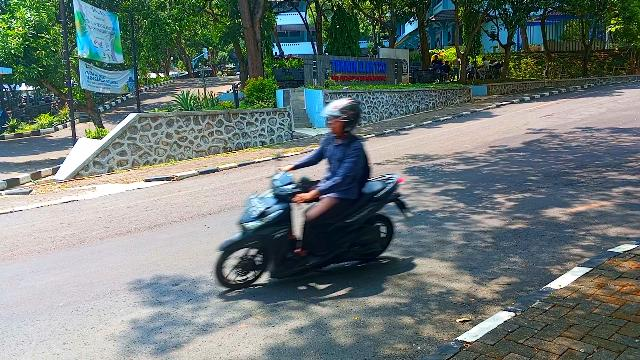helm: (320, 96, 365, 138)
motor: (216, 152, 414, 293)
